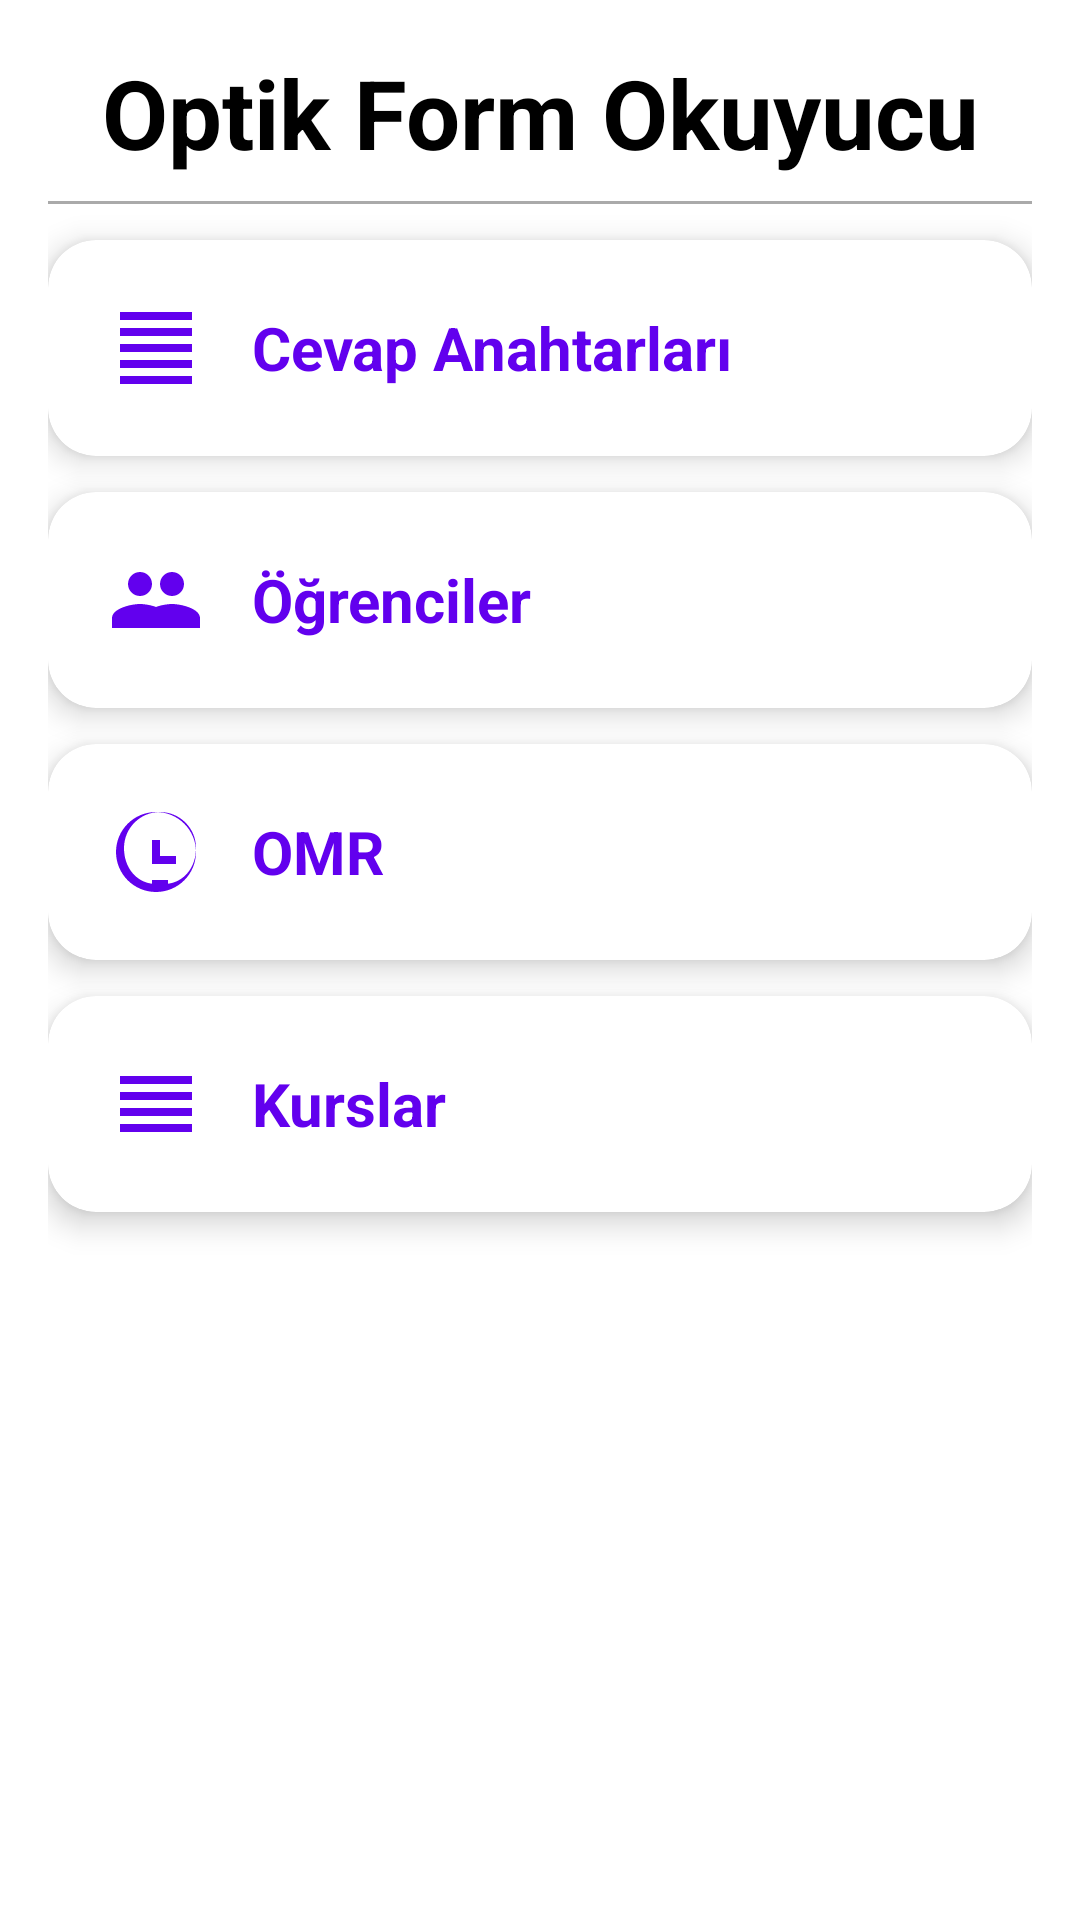

Named icons in this screenshot (1080×1920) and their centers, point (x, y):
Süreçler İkonu: point (156, 852)
